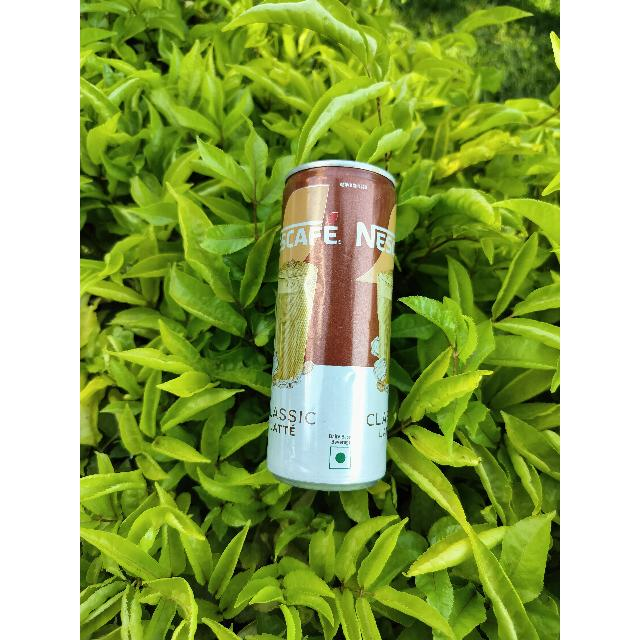Nescafe Classic Iced Latte: (264, 160, 404, 492)
